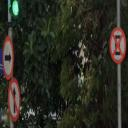NoSeguir: (8, 77, 20, 122)
